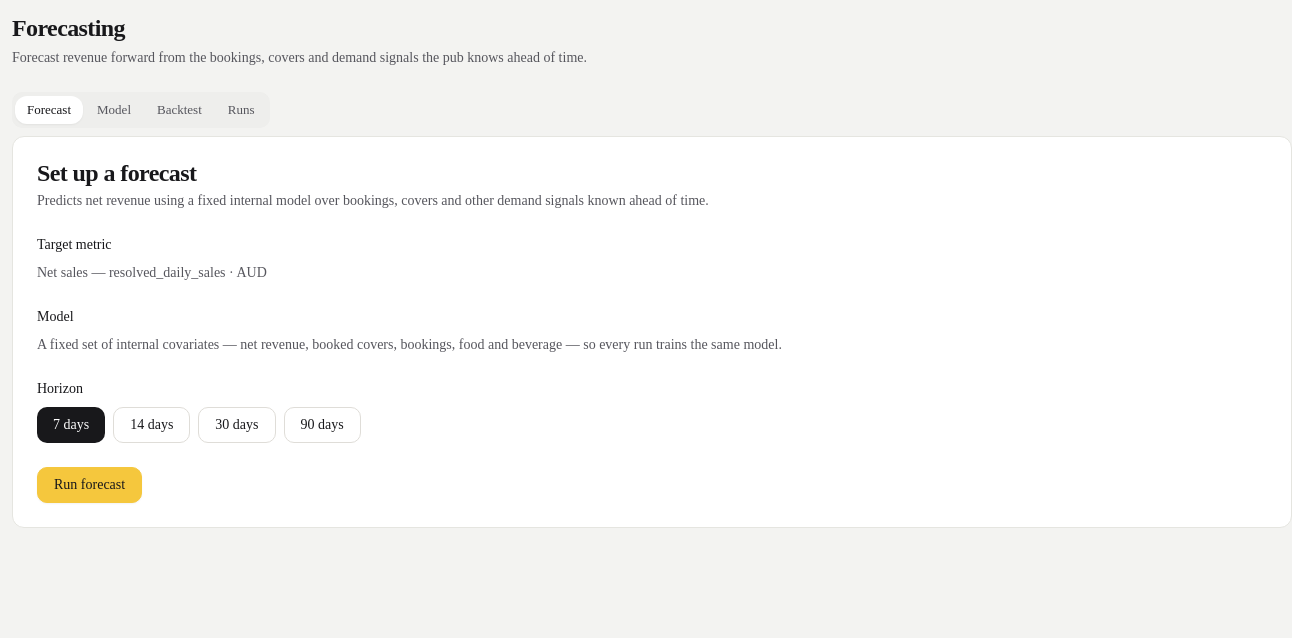
Test: ForecastingPage › opens a compare-to-actuals view from the Runs tab for a succeeded run
Expected: the text "Net sales — resolved_daily_sales · AUD" is shown, [37,265,267,280]
Press the mouse on the tab "Runs": (241, 110) [216,96,266,124]
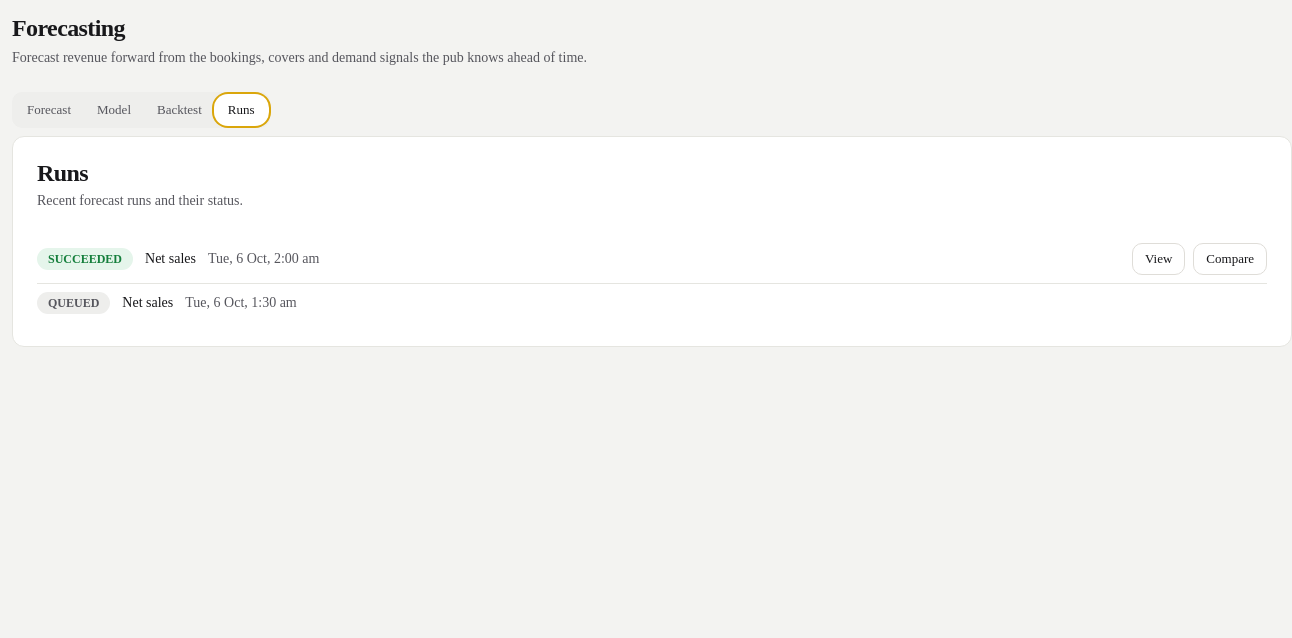
Click the button "Compare": click(1230, 259) [1193,243,1267,275]
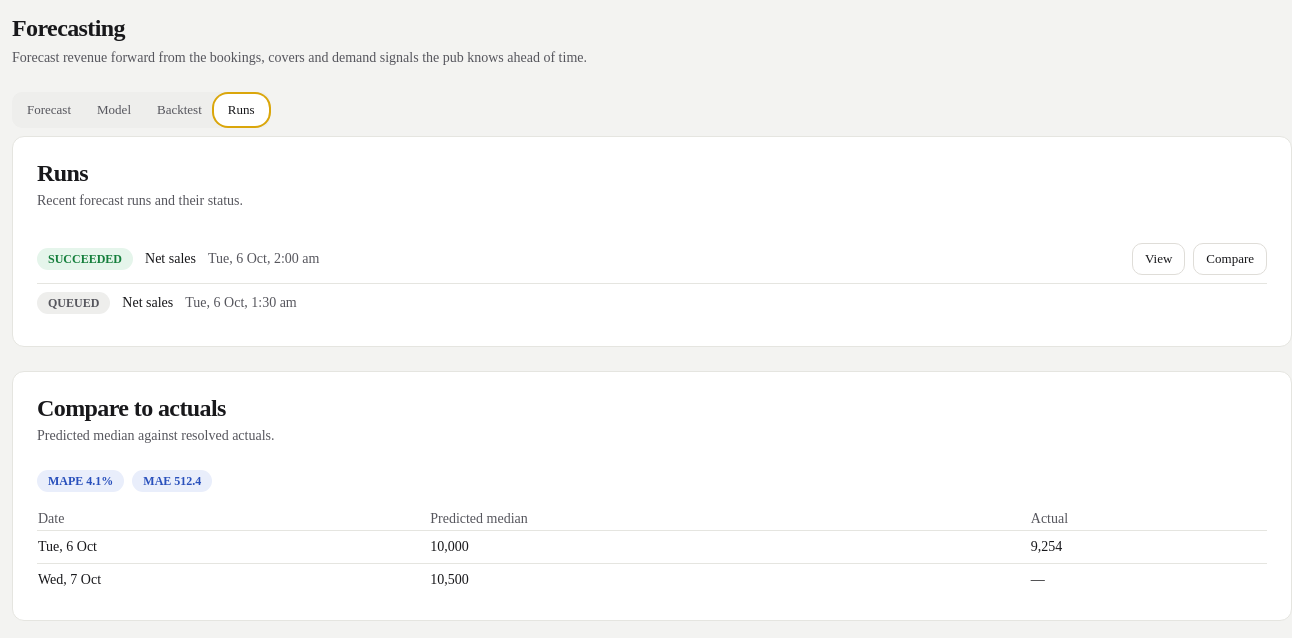
Expected: the text "Compare to actuals" is shown, [37,395,226,421]
Expected: the text "MAPE 4.1%" is shown, [37,470,124,492]
Expected: the text "MAE 512.4" is shown, [132,470,212,492]
